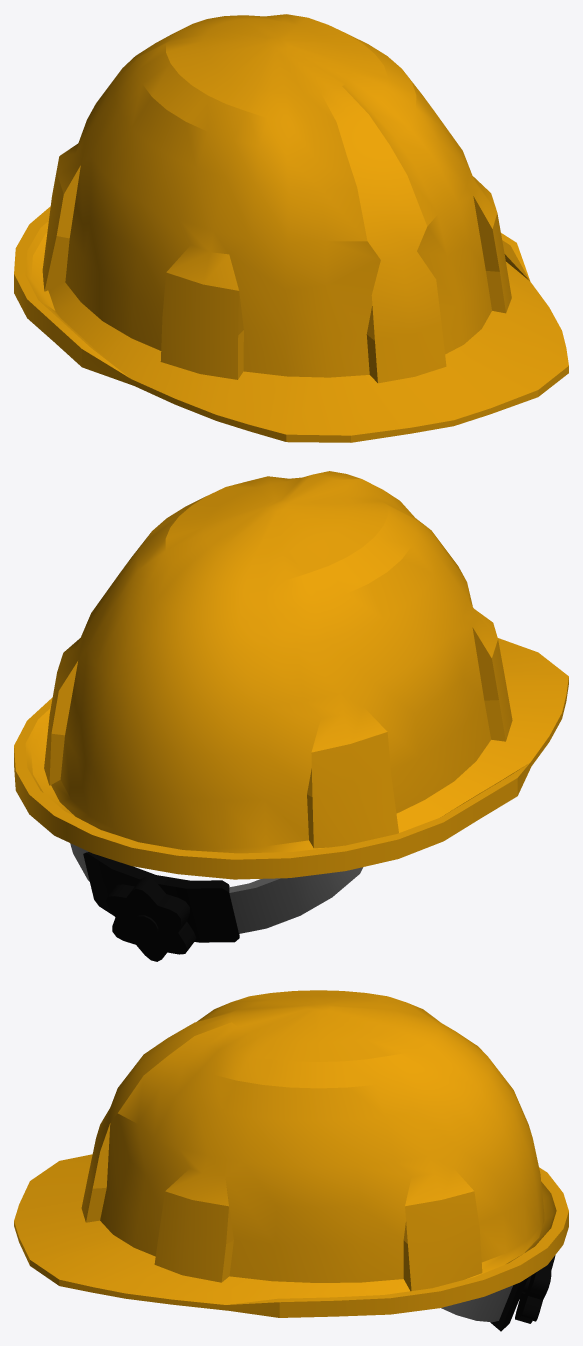
Rendered from HardHat.fbx.
The picture shows the model from 3 angles, top to bottom: view 1: azimuth 30°, elevation 25°; view 2: azimuth 150°, elevation 25°; view 3: azimuth 270°, elevation 25°; orthographic projection. The views are drawn at different scales.
Parts seen in each view (by area): view 1: Hat; view 2: Hat, PlasticBand, RotationThing, Band; view 3: Hat, RotationThing, Band, PlasticBand.
Part boxes in pixels (bbox=[...]): Hat: bbox=[14, 14, 568, 442]; Hat: bbox=[14, 471, 568, 879]; PlasticBand: bbox=[83, 852, 239, 942]; RotationThing: bbox=[106, 877, 196, 961]; Band: bbox=[70, 843, 363, 933]; Hat: bbox=[14, 990, 568, 1317]; RotationThing: bbox=[515, 1255, 555, 1323]; Band: bbox=[441, 1285, 512, 1322]; PlasticBand: bbox=[490, 1278, 527, 1331].
Bounding box in the file's own units: 17.43 × 14 × 22.37.
